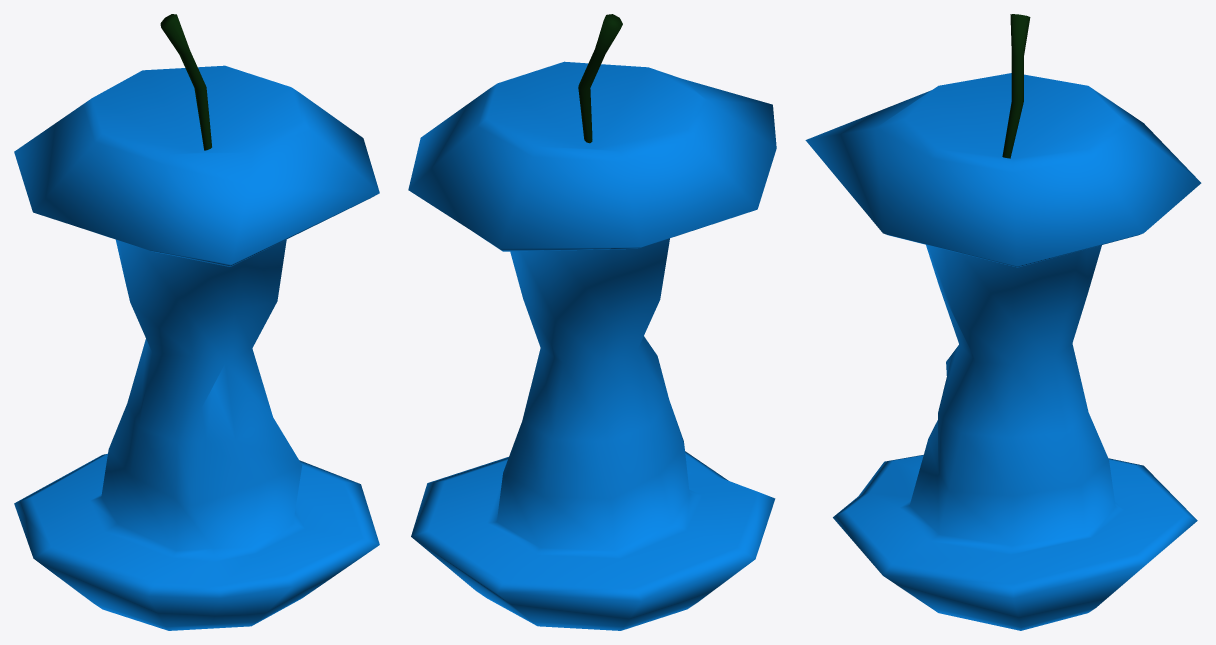
The model's file is Mesh_apple_core.fbx.
3 views of the same model, side by side, from view 1: azimuth 30°, elevation 25°; view 2: azimuth 150°, elevation 25°; view 3: azimuth 270°, elevation 25° (orthographic). The views are drawn at different scales.
Parts seen in each view (by area): view 1: apple core; view 2: apple core; view 3: apple core.
Boxes of the visible parts, x1,y1,x2,y2 form: apple core: (14,14,379,630); apple core: (408,14,776,630); apple core: (805,14,1201,630).
Size of the model in its own units: 12.15 by 20.03 by 12.87.
